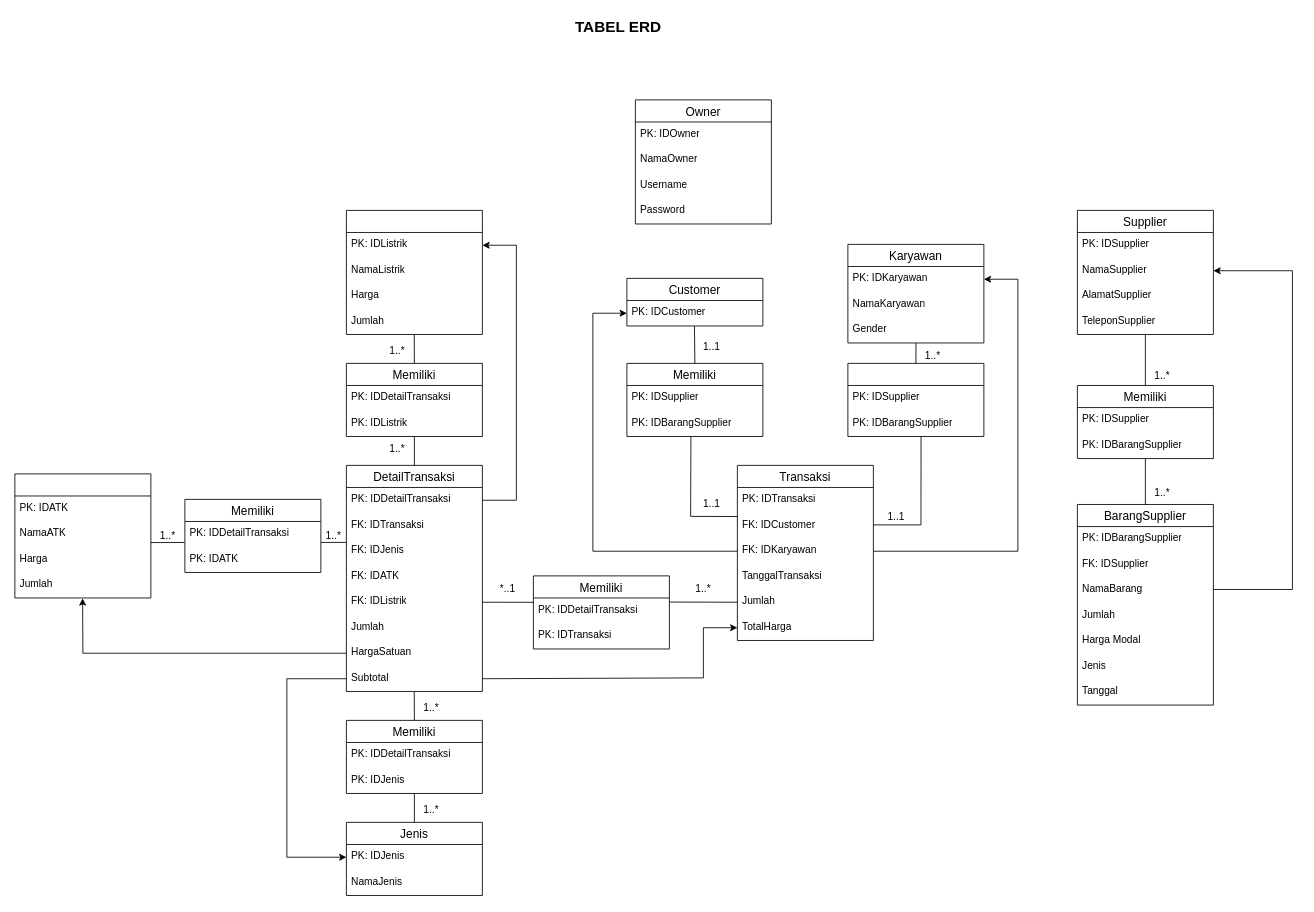
The diagram is 1314 pixels wide and 912 high, and some of its shapes have lost their labels. Each missing label, with the box of its shape:
DataATK: (14, 473, 151, 598)
DataListrik: (346, 210, 482, 334)
Melayani: (847, 363, 984, 436)
